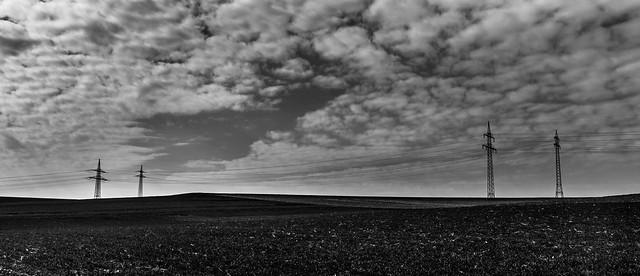power_tower: (479, 119, 498, 199), (546, 129, 566, 197), (86, 157, 112, 199), (131, 163, 150, 199)
